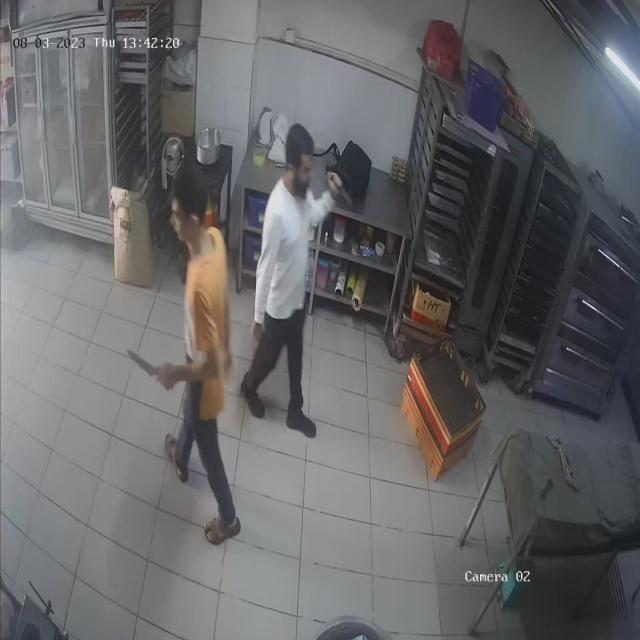Knife: (118, 341, 172, 394), (326, 162, 359, 212)
